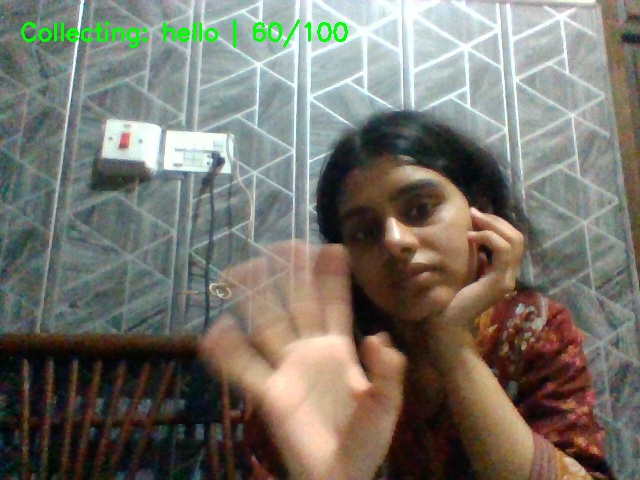hello: (186, 237, 437, 474)
